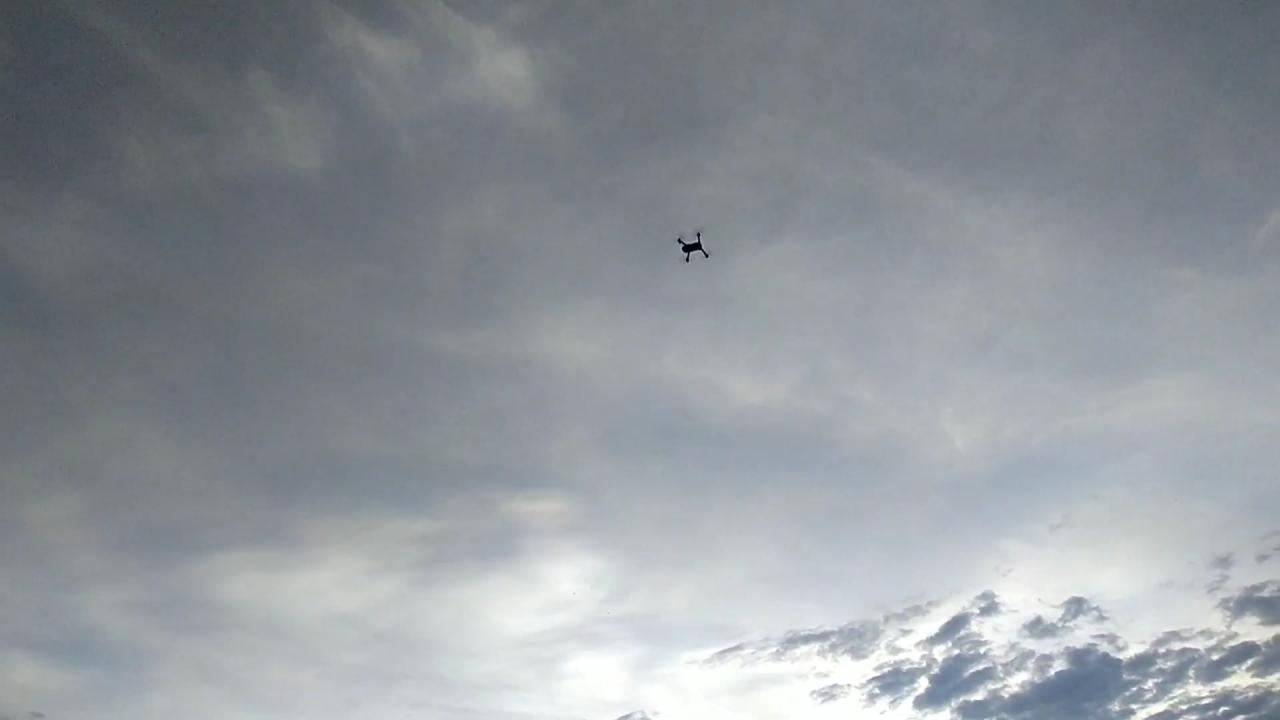Drone: (668, 221, 718, 271)
